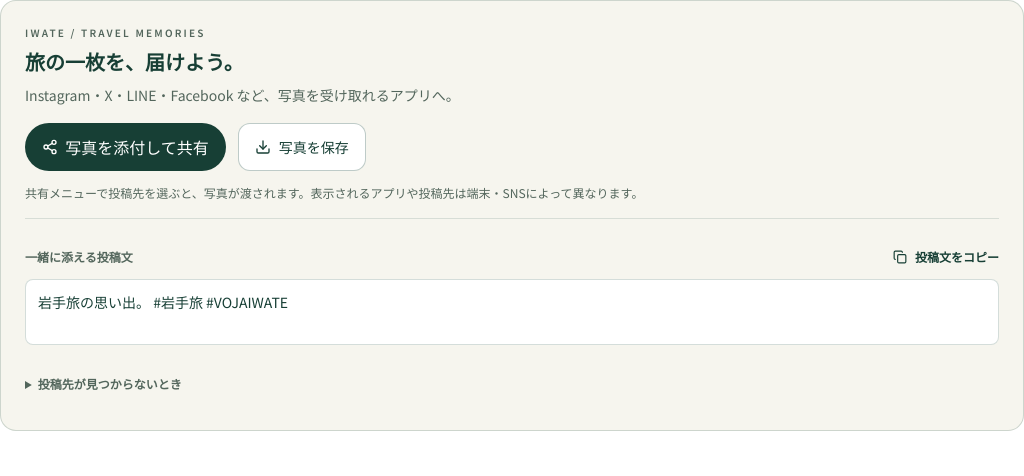
Test case: PhotoSharePanel › shares the prepared PNG synchronously from a click, without text-only fallback
The width and height of the screenshot is (1024, 476).
Click the button "写真を添付して共有": (125, 147) [25, 123, 226, 171]
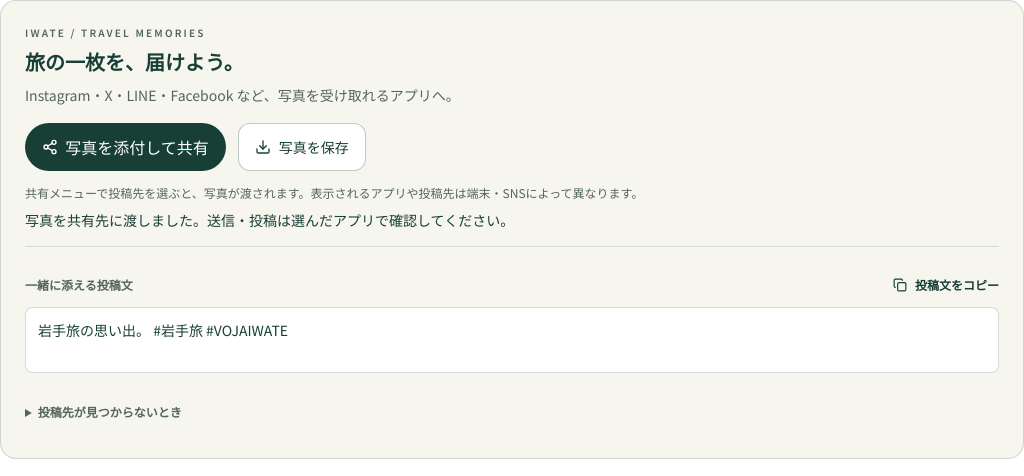
expect the text "写真を共有先に渡しました。送信・投稿は選んだアプリで確認してください。" is shown: met, box [25, 210, 514, 230]
